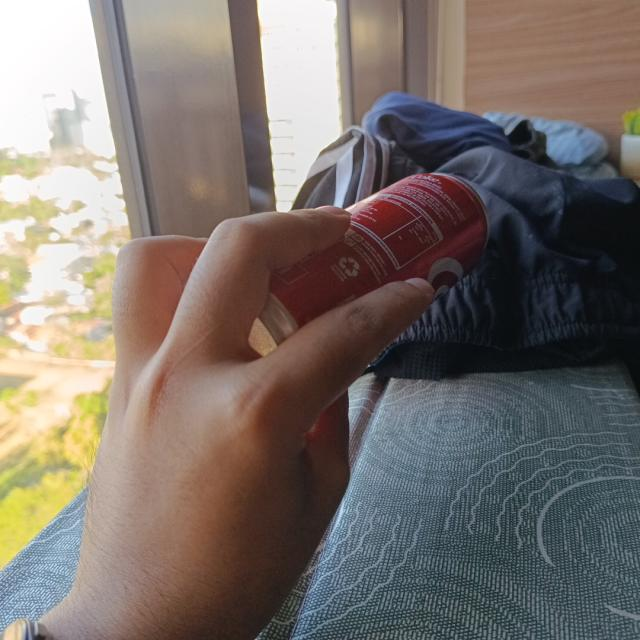coke: (258, 172, 486, 349)
